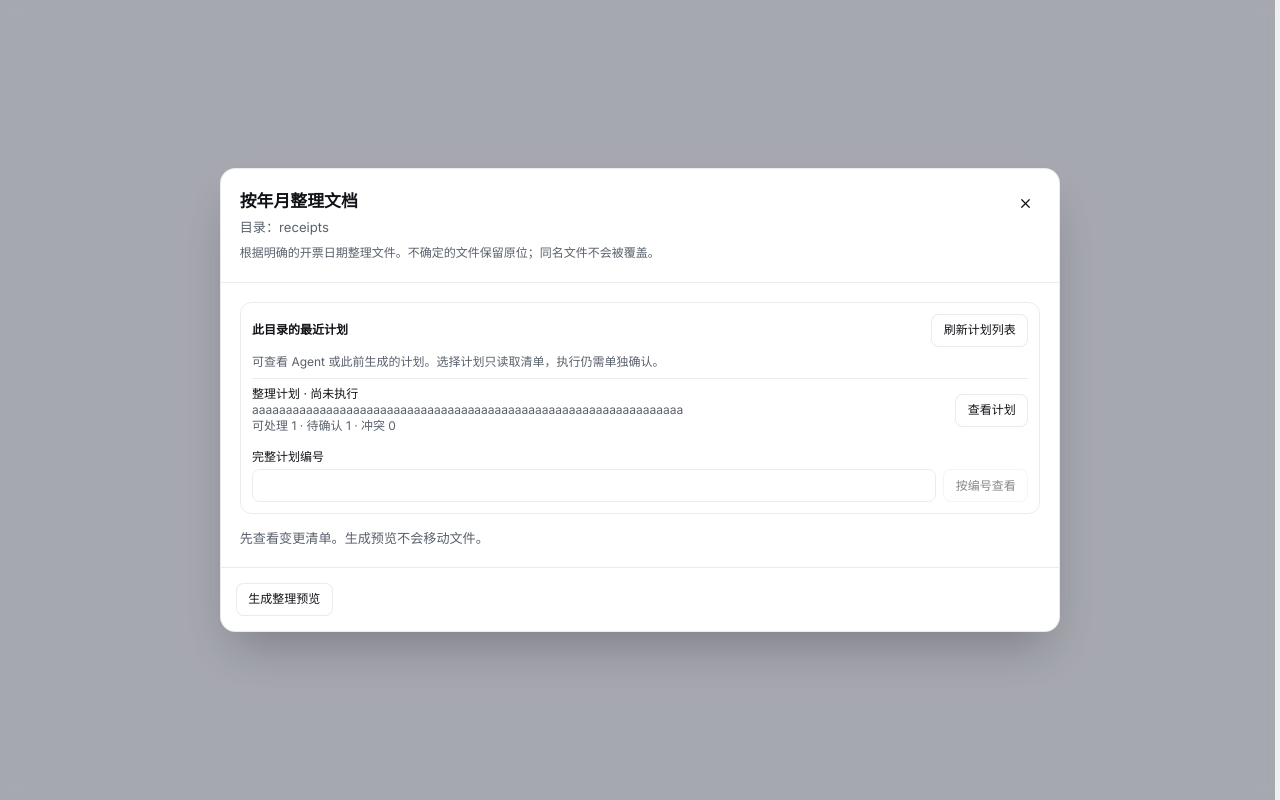
NAS document organization flow › clears summaries on a denied refresh and never treats the failure as an empty list
Click the button "刷新计划列表": [980, 330] box [932,314,1028,347]
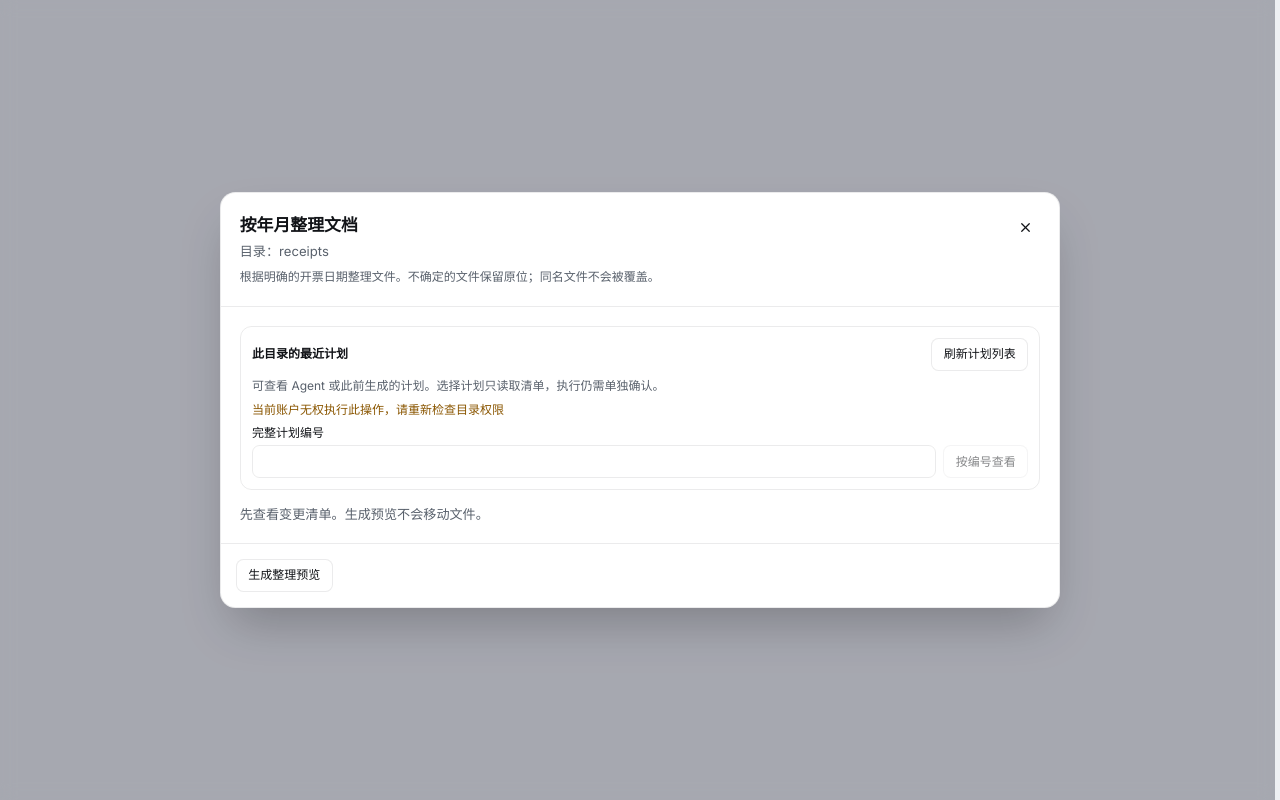
expect the text "当前账户无权执行此操作，请重新检查目录权限" is shown: met, box [252,402,504,417]
